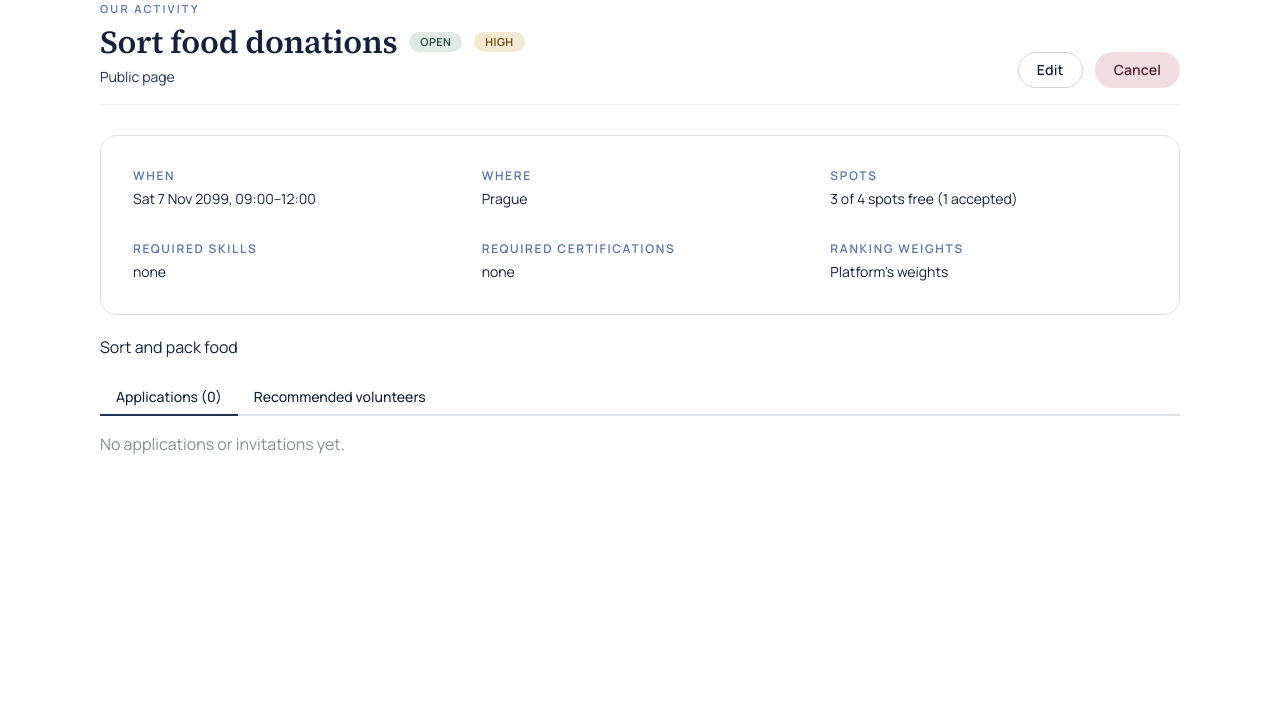
Test: ManageActivityPage › cancels only after the confirmation
This screenshot has width=1280, height=720.
Step 1. Click the button "Cancel" → (1137, 70), box [1095,52,1180,88]
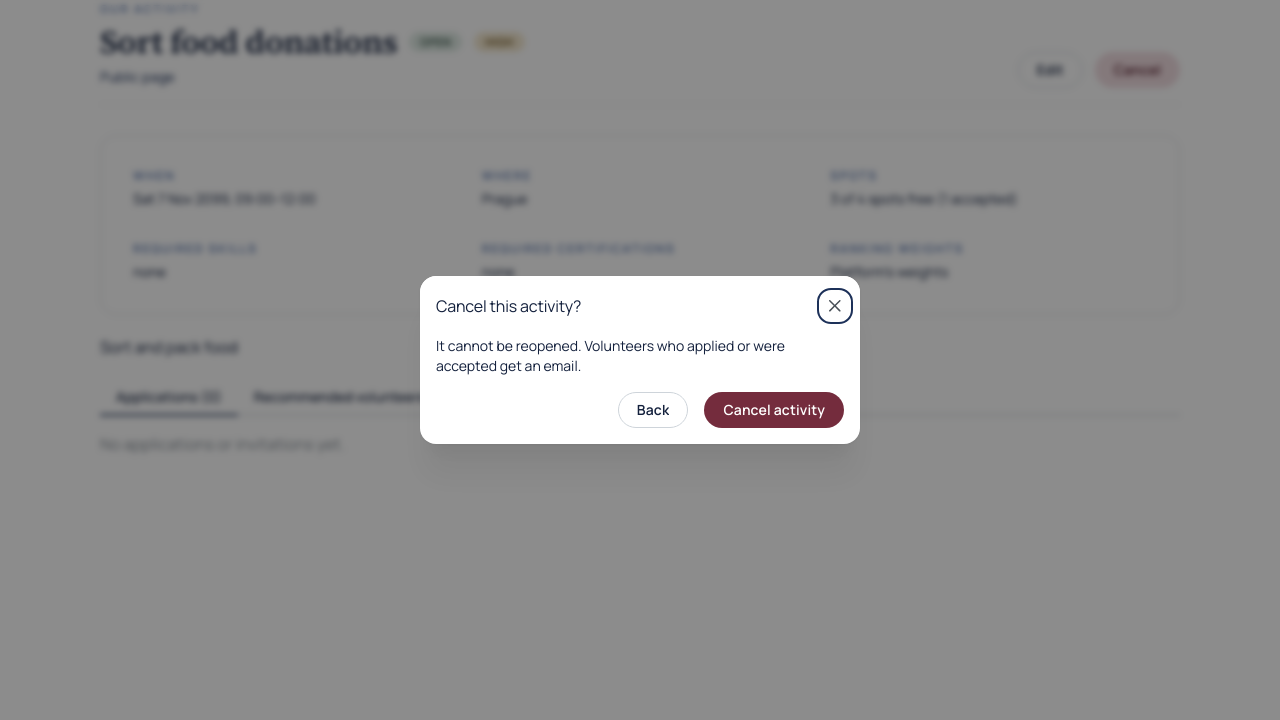
Check: the heading "Cancel this activity?" is shown, box [436,298,581,314]
Step 2. Click the button "Cancel activity" → (774, 410), box [704,392,844,428]
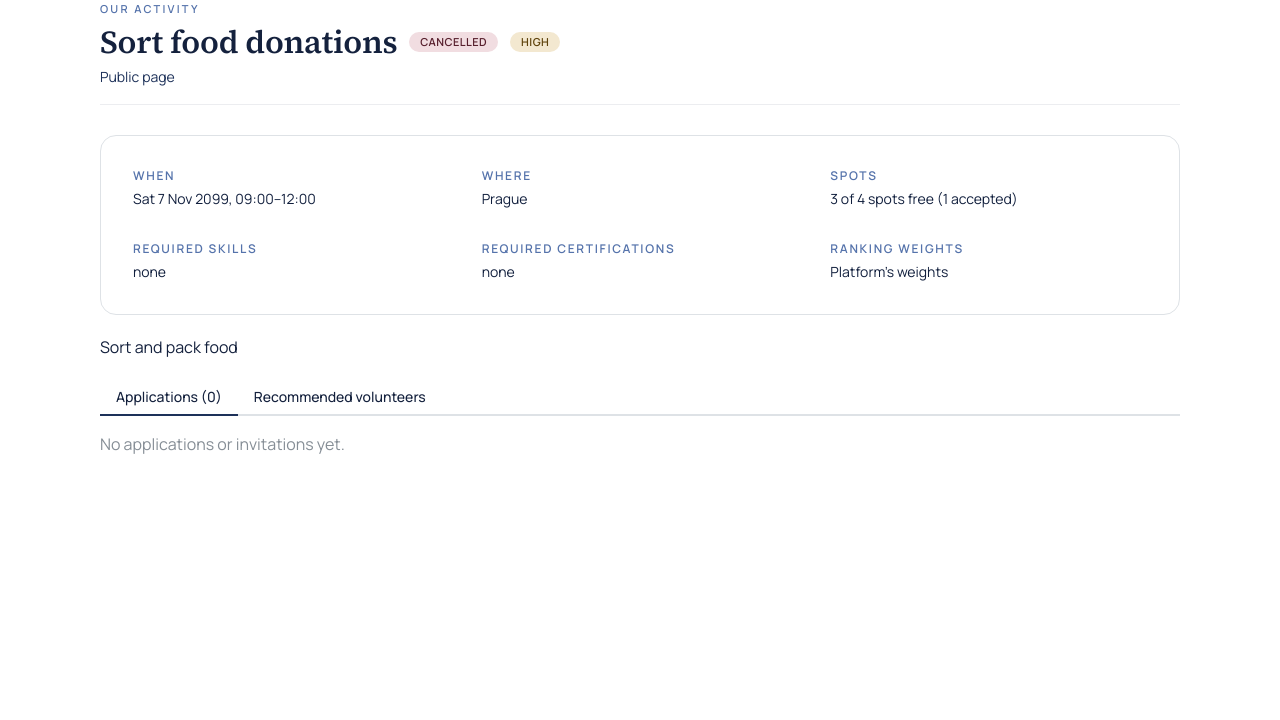
Check: the text "CANCELLED" is shown, box [420,33,487,51]
Check: the link "Edit" is gone
